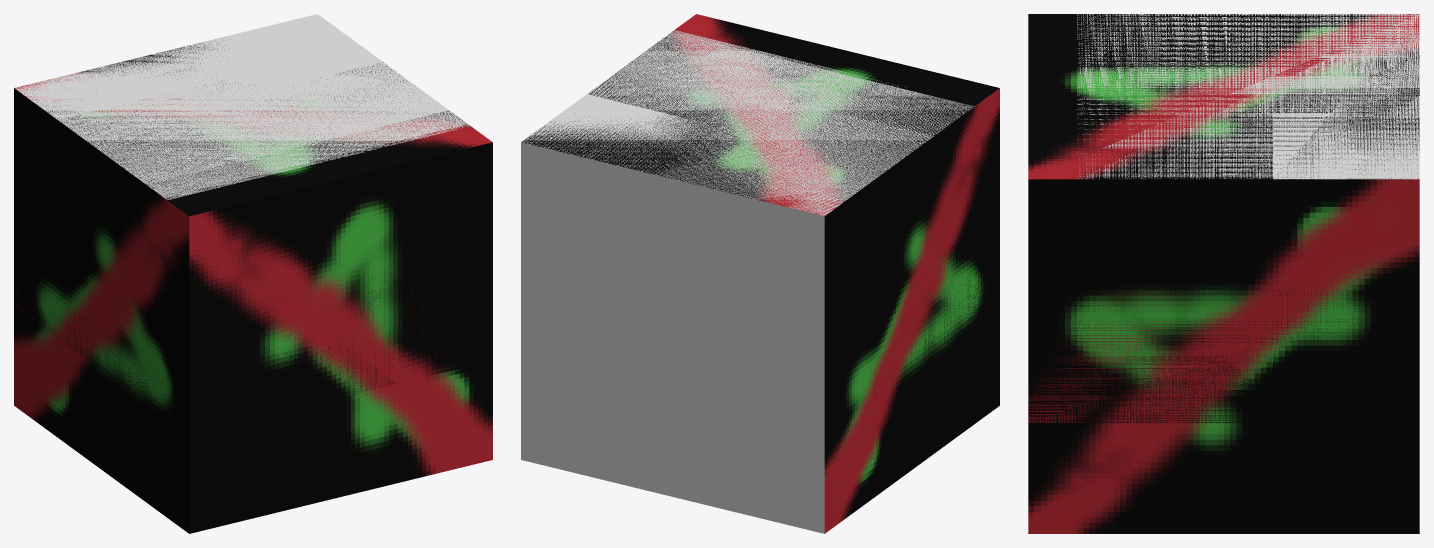
File: gta2_block_model.glb
3 renders of one model, left to right at view 1: azimuth 30°, elevation 25°; view 2: azimuth 150°, elevation 25°; view 3: azimuth 270°, elevation 25°, orthographic. The views are drawn at different scales.
Visible parts, largest first — view 1: block.lid, diagonal.lid, block.left, slope_8.6.left, slope_7.004, block.top, slope_8.5, slope_8.2.left, slope_8.2, slope_7.4.left, slope_7.007, slope_2.high.left (+20 smaller); view 2: block.ground, block.top, block.left, slope_8.2, slope_8.7.left, slope_7.004, 3_sided.ground, slope_8.6.left, slope_7.009, slope_2.high.left, slope_8.2.left, slope_8.6 (+16 smaller); view 3: block.right, block.top, 3_sided.right, slope_8.2.right, partial.right, slope_7.6.right, slope_7.5.right, slope_8.2, slope_2.high.right, slope_7.007, slope_7.004, slope_7.009 (+20 smaller).
Part boxes in pixels (bbox=[...]): block.lid: bbox=[189, 142, 492, 533]; diagonal.lid: bbox=[190, 143, 492, 459]; block.left: bbox=[14, 137, 189, 533]; slope_8.6.left: bbox=[43, 136, 166, 498]; slope_7.004: bbox=[23, 44, 467, 197]; block.top: bbox=[14, 43, 492, 216]; slope_8.5: bbox=[31, 53, 448, 183]; slope_8.2.left: bbox=[14, 88, 79, 385]; slope_8.2: bbox=[154, 14, 382, 92]; slope_7.4.left: bbox=[40, 149, 138, 478]; slope_7.007: bbox=[24, 43, 441, 178]; slope_2.high.left: bbox=[14, 137, 188, 445]; block.ground: bbox=[521, 142, 824, 533]; block.top: bbox=[521, 14, 999, 215]; block.left: bbox=[824, 88, 999, 532]; slope_8.2: bbox=[521, 94, 824, 521]; slope_8.7.left: bbox=[835, 94, 999, 522]; slope_7.004: bbox=[524, 32, 974, 212]; 3_sided.ground: bbox=[521, 145, 822, 422]; slope_8.6.left: bbox=[829, 104, 977, 519]; slope_7.009: bbox=[528, 78, 923, 214]; slope_2.high.left: bbox=[825, 89, 998, 533]; slope_8.2.left: bbox=[824, 169, 890, 459]; slope_8.6: bbox=[542, 30, 910, 204]; block.right: bbox=[1028, 179, 1419, 533]; block.top: bbox=[1028, 14, 1419, 179]; 3_sided.right: bbox=[1033, 179, 1419, 461]; slope_8.2.right: bbox=[1285, 189, 1419, 533]; partial.right: bbox=[1028, 290, 1419, 423]; slope_7.6.right: bbox=[1029, 179, 1419, 533]; slope_7.5.right: bbox=[1086, 179, 1417, 533]; slope_8.2: bbox=[1273, 90, 1419, 179]; slope_2.high.right: bbox=[1087, 268, 1416, 533]; slope_7.007: bbox=[1140, 14, 1419, 179]; slope_7.004: bbox=[1084, 14, 1419, 179]; slope_7.009: bbox=[1196, 14, 1419, 179].
Size of what is drawn, in the model's own units: 1 by 1 by 1.
5 materials, 4 textured.
